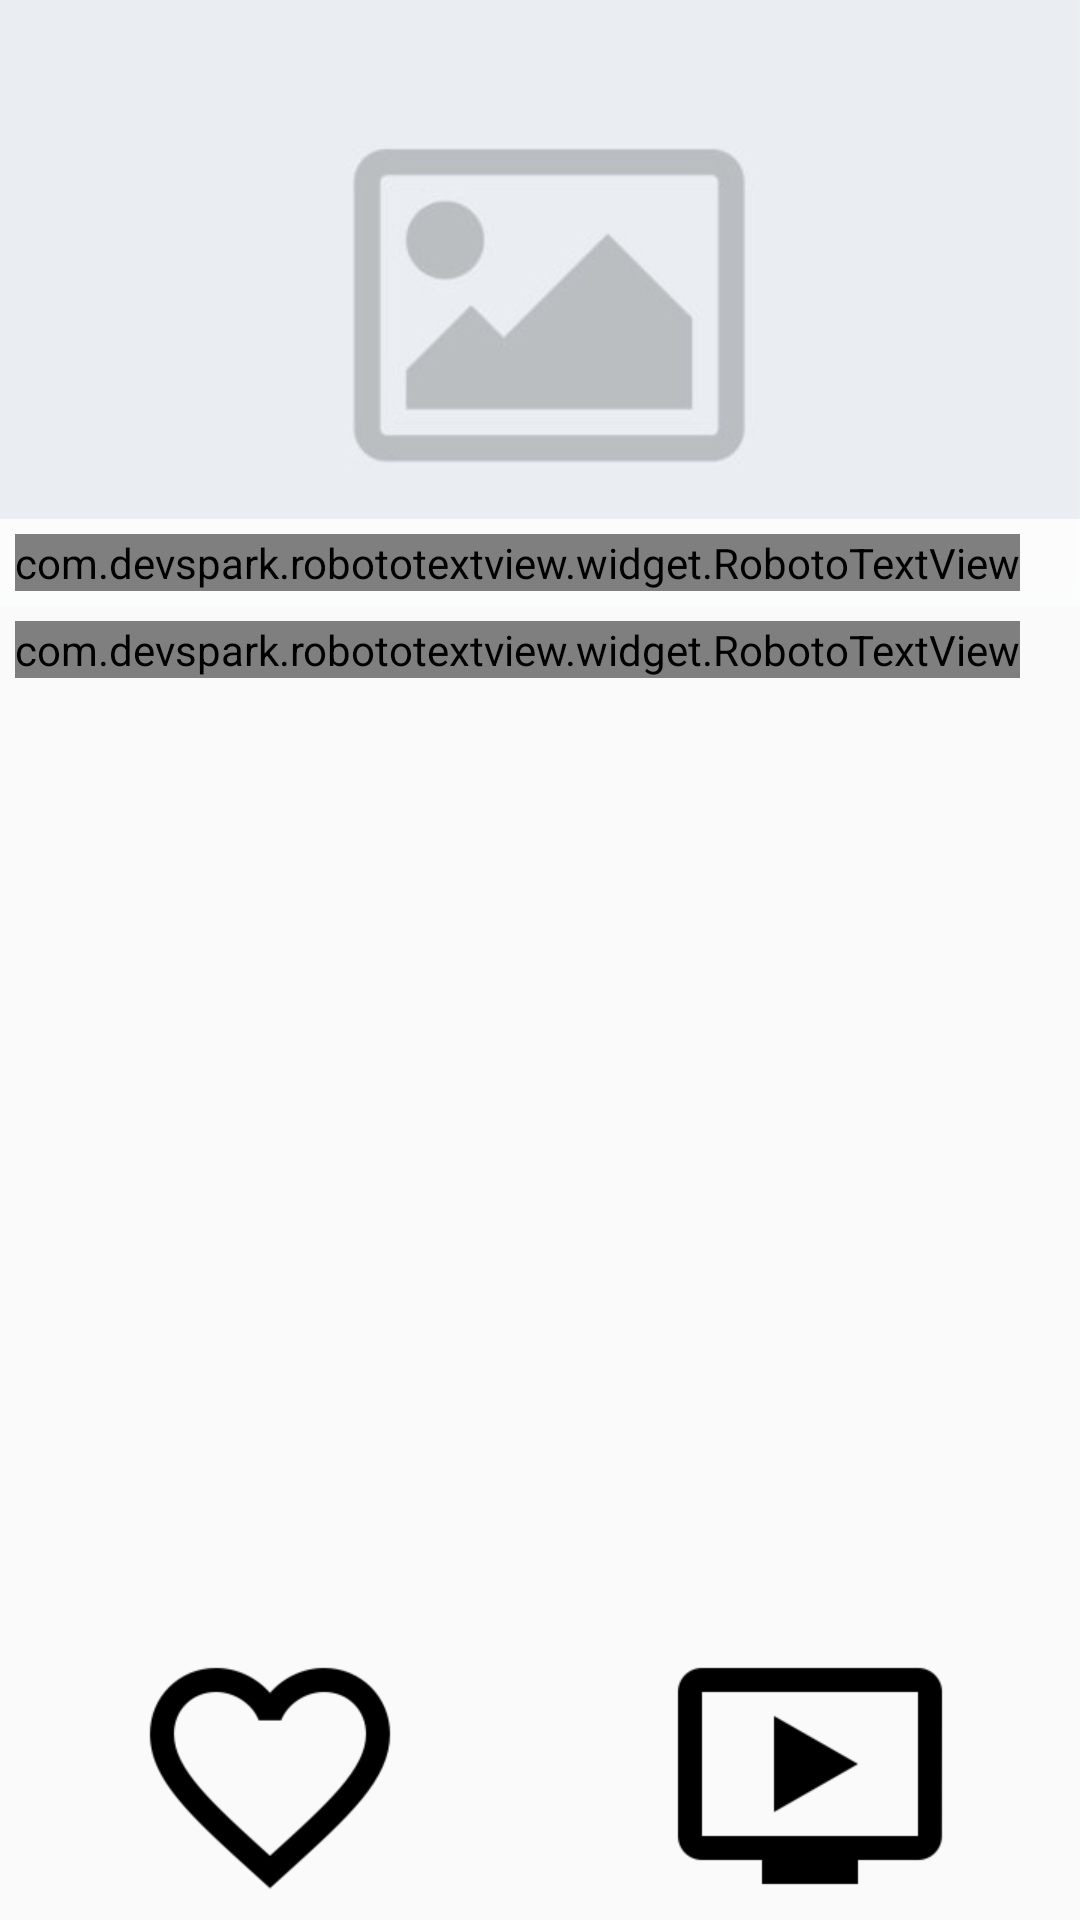

Icon click points for this 1080 x 1920 phone screenshot, format point (x, y):
group favorite: point (270, 1778)
video play: point (810, 1776)
